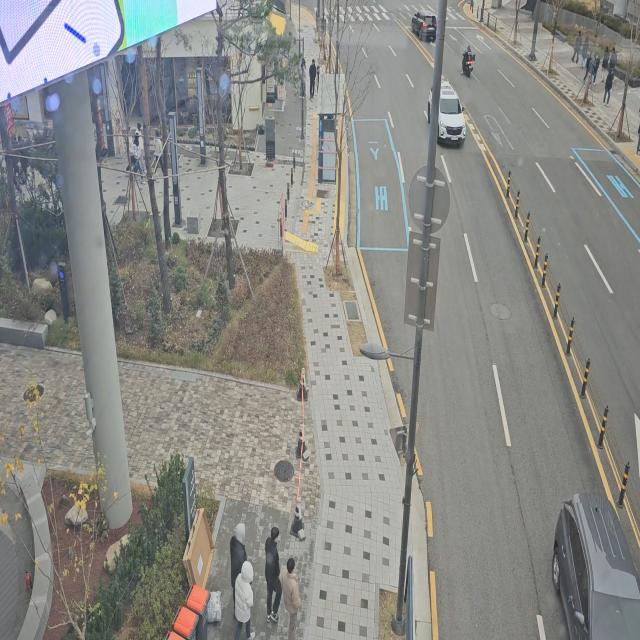Car: (545, 483, 640, 640), (425, 76, 471, 153), (407, 5, 445, 50)
Motorcycle: (460, 46, 480, 80)
